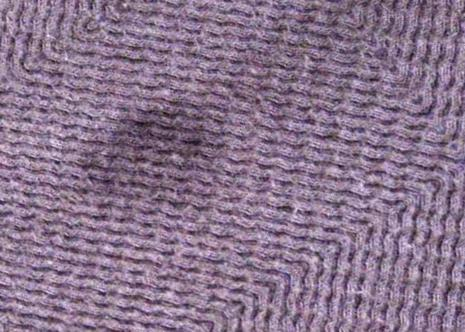stain: (77, 98, 220, 205)
